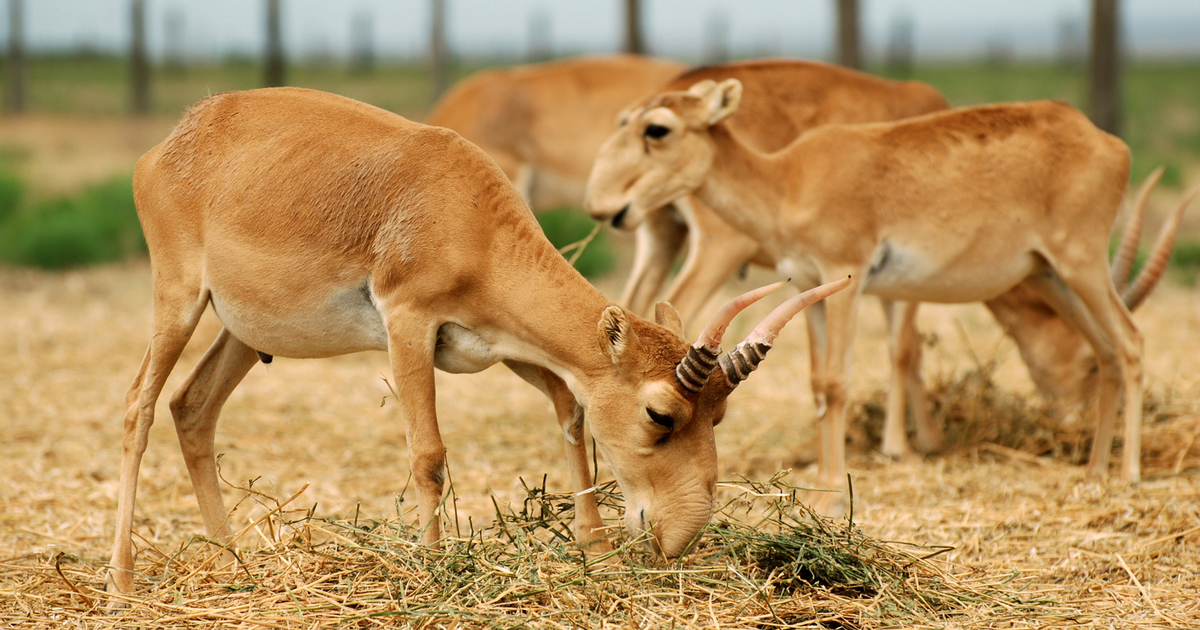saiga: (102, 81, 854, 618), (593, 75, 1179, 497)
